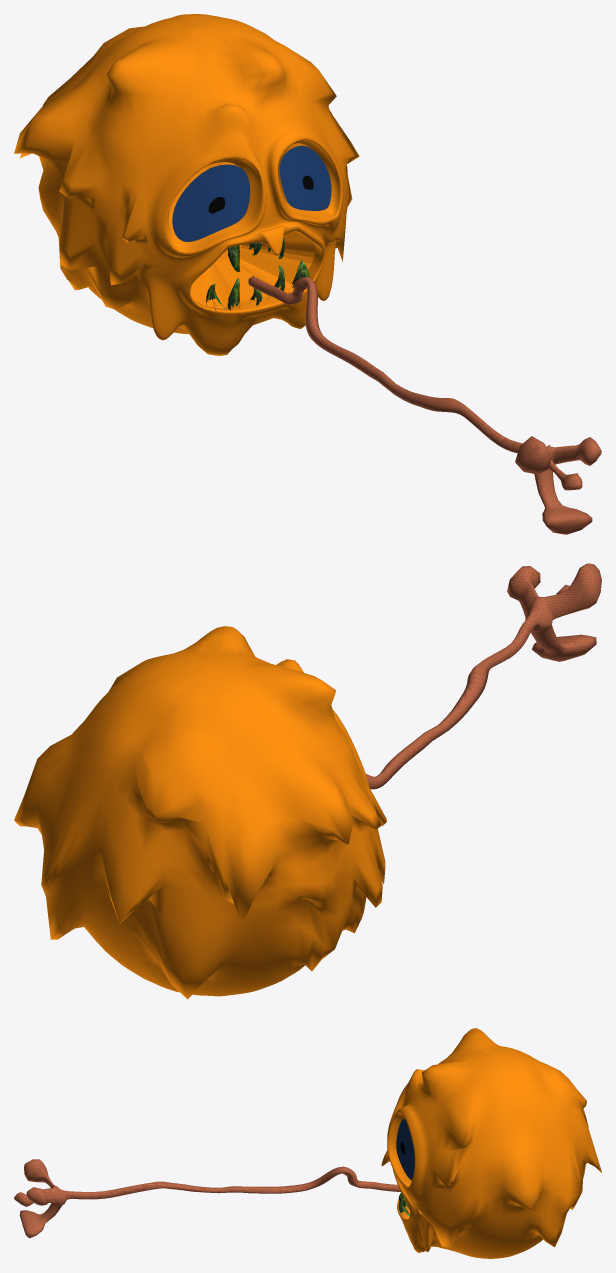
Rendered from Blob_Base.fbx.
The picture shows the model from 3 angles, top to bottom: view 1: azimuth 30°, elevation 25°; view 2: azimuth 150°, elevation 25°; view 3: azimuth 270°, elevation 25°; orthographic projection. The views are drawn at different scales.
Visible parts, largest first — view 1: Blob Base; view 2: Blob Base; view 3: Blob Base.
Boxes of the visible parts, bbox=[...] form: Blob Base: bbox=[14, 14, 601, 534]; Blob Base: bbox=[14, 563, 601, 999]; Blob Base: bbox=[14, 1028, 601, 1258].
Bounding box in the file's own units: 179 × 450 × 165.
Materials: 5 (2 with a texture image).
